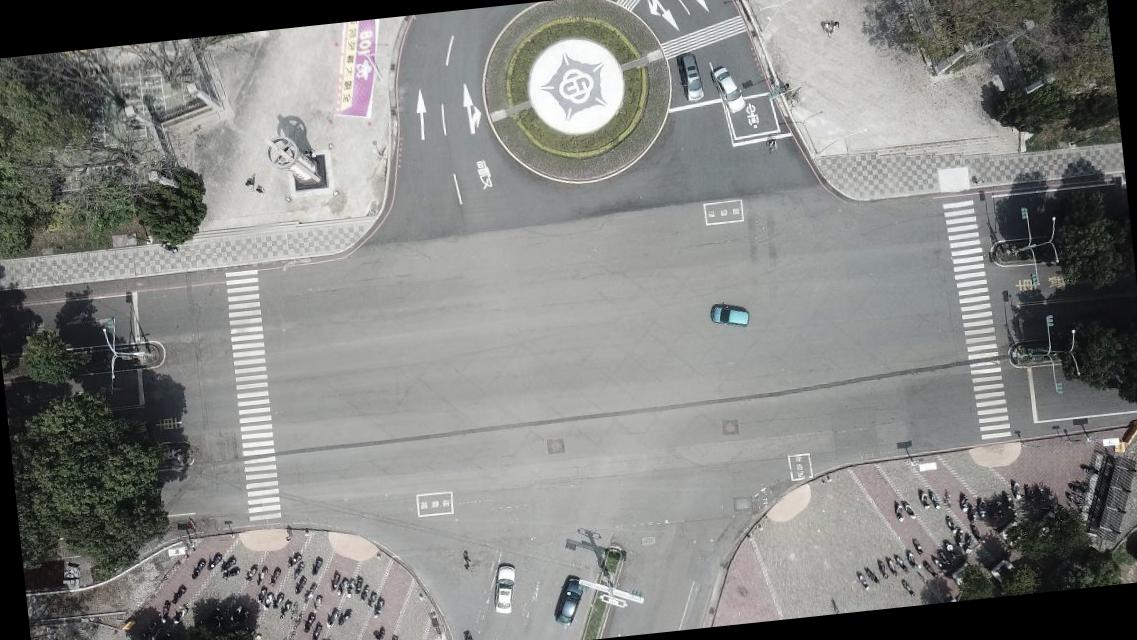vehicle: (552, 574, 589, 627), (711, 64, 748, 116), (489, 560, 521, 616), (677, 51, 706, 104), (709, 299, 751, 328)
